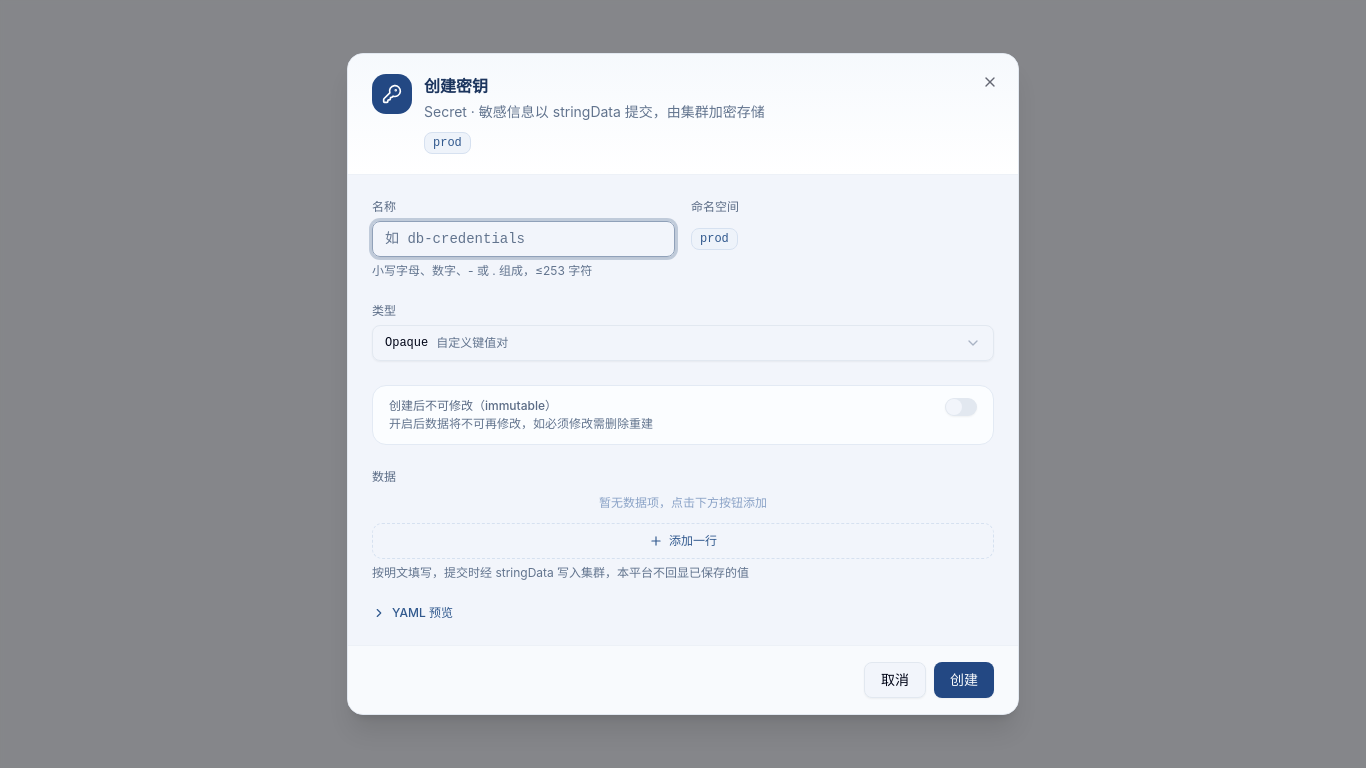
it: SecretCreateDialog › adds and removes data rows
Click the button "添加一行": [683, 541] box left=372, top=523, right=994, bottom=559
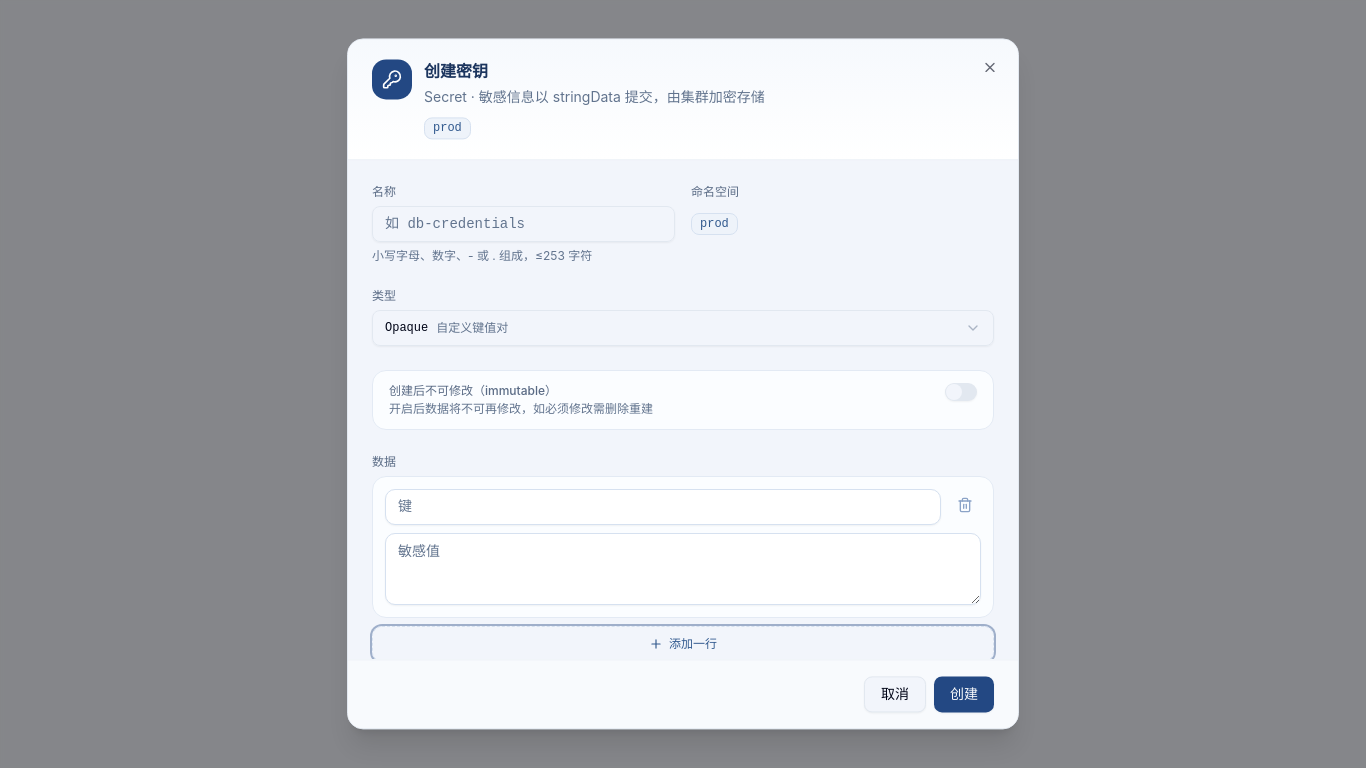
In the field named "键 1": [663, 507] box left=385, top=489, right=941, bottom=525, type "token"
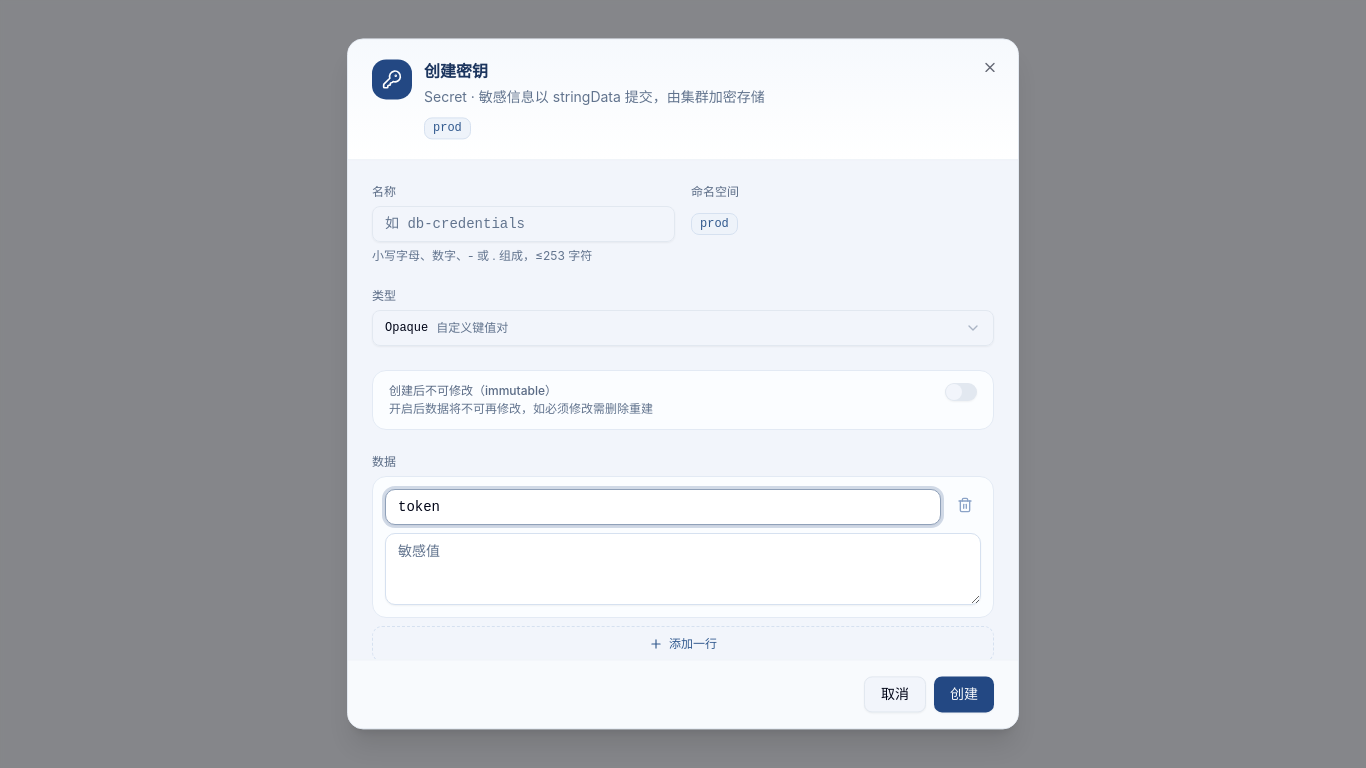
In the text box named "值 1": [683, 569] box left=385, top=533, right=981, bottom=605, type "abc"
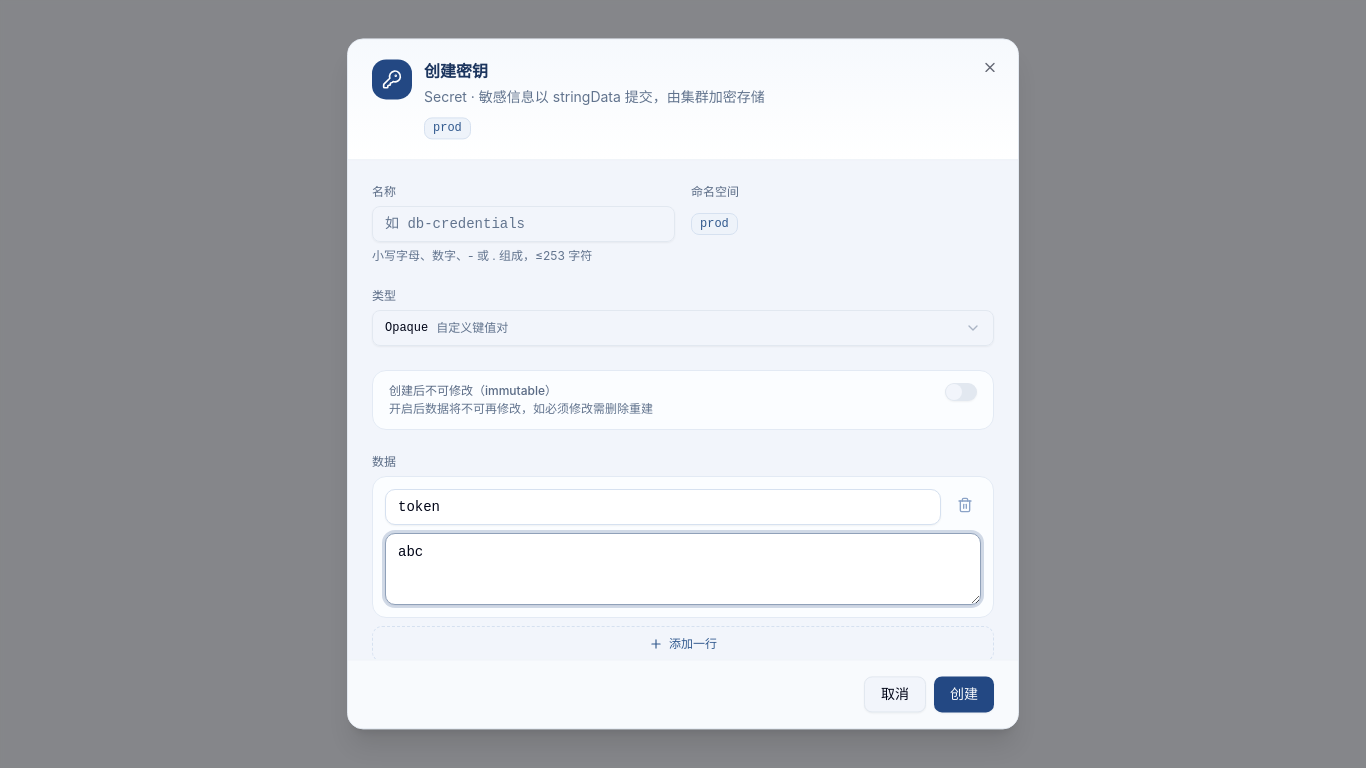
Click the button named "删除此行": [965, 505] box left=949, top=489, right=981, bottom=521
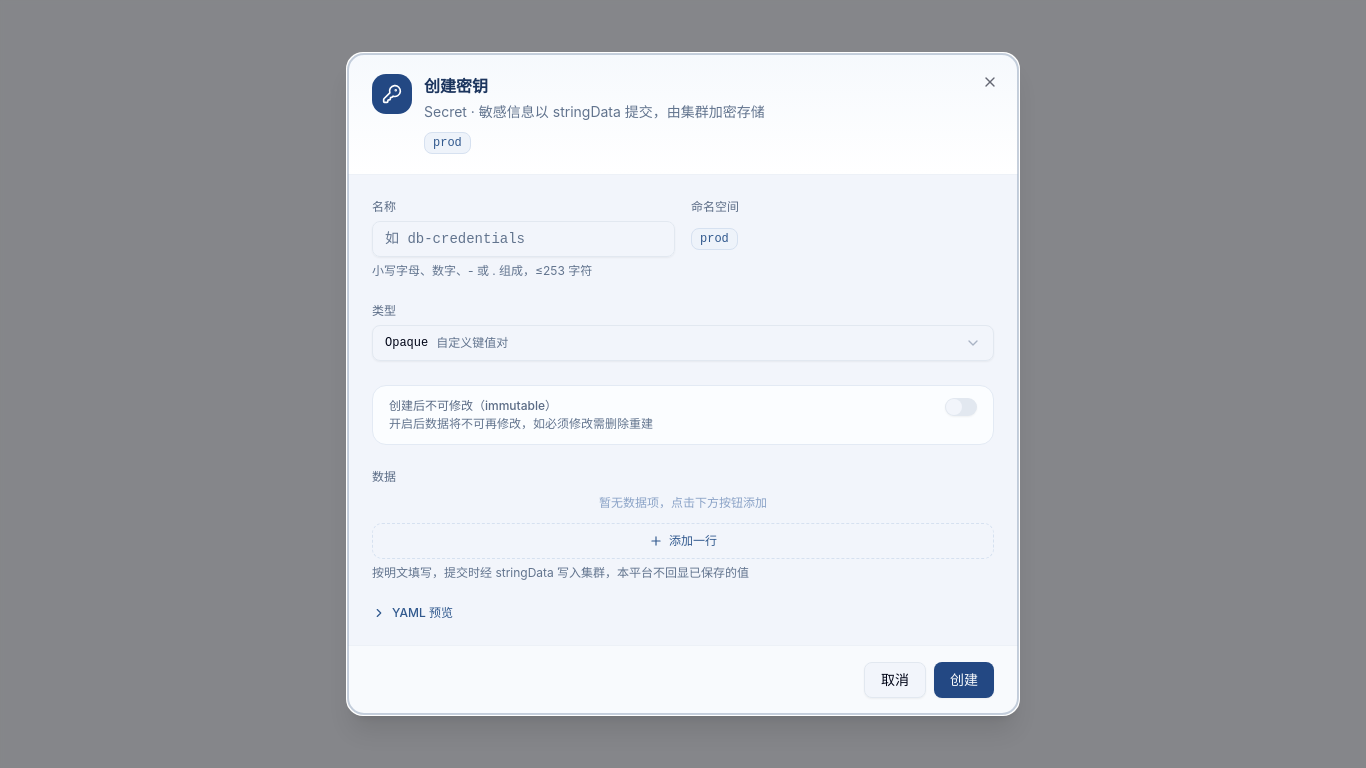
Expected: the text "暂无数据项，点击下方按钮添加" is shown, left=599, top=495, right=767, bottom=510
